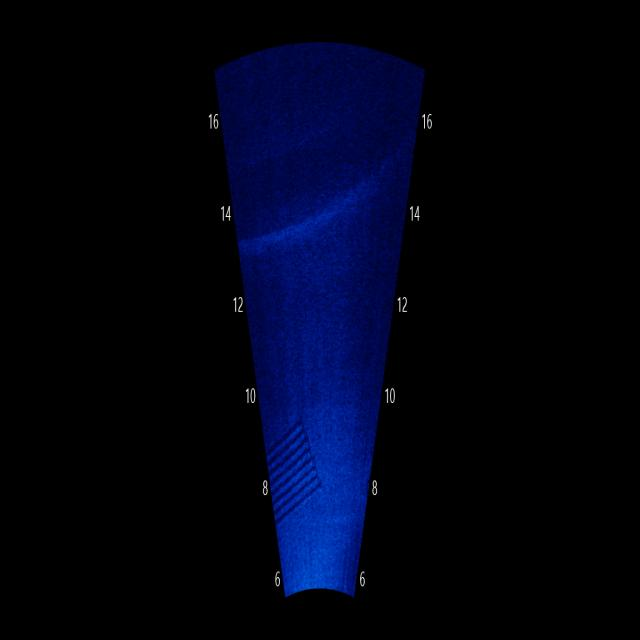square: (270, 396, 326, 504)
